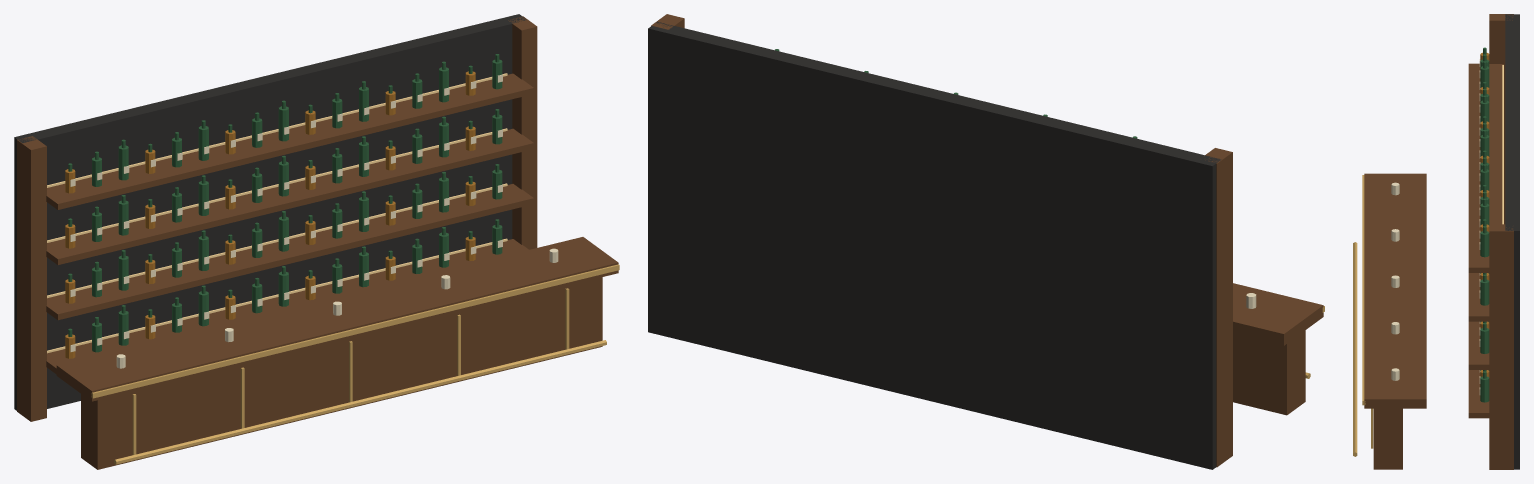
File: salon_bar.glb
3 views of the same model, side by side, from view 1: azimuth 30°, elevation 25°; view 2: azimuth 150°, elevation 25°; view 3: azimuth 270°, elevation 25° (orthographic). The views are drawn at different scales.
Parts seen in each view (by area): view 1: Walnut, Palette; view 2: Palette, Walnut; view 3: Walnut, Palette.
Boxes of the visible parts, bbox=[...] form: Walnut: bbox=[17, 16, 618, 469]; Palette: bbox=[14, 14, 619, 464]; Palette: bbox=[648, 21, 1324, 469]; Walnut: bbox=[651, 14, 1323, 467]; Walnut: bbox=[1364, 14, 1513, 469]; Palette: bbox=[1353, 14, 1519, 469].
Size of the model in its own units: 7.3 by 3.6 by 2.28.
